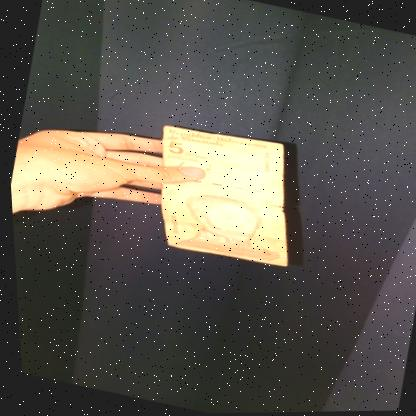five-front-vef: (135, 117, 311, 274)
